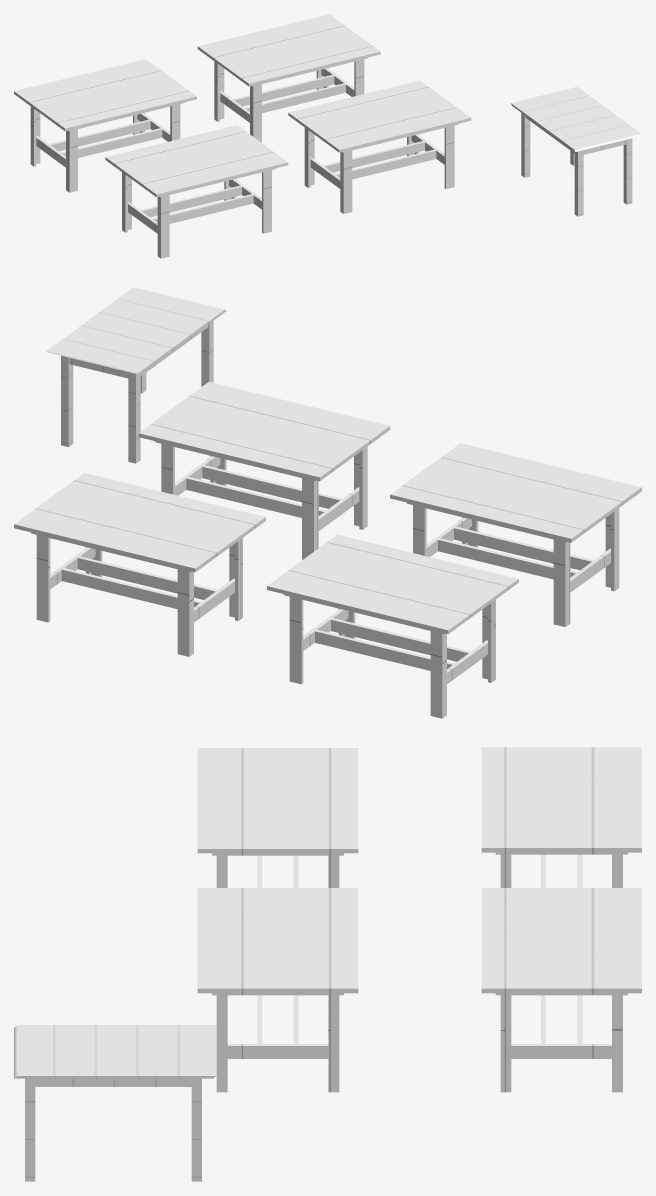
File: tables.glb
3 renders of one model, top to bottom at view 1: azimuth 30°, elevation 25°; view 2: azimuth 150°, elevation 25°; view 3: azimuth 270°, elevation 25°, orthographic. The views are drawn at different scales.
Visible parts, largest first — view 1: Object_2.012; view 2: Object_2.012; view 3: Object_2.012.
Part boxes in pixels (x1,y1,x2,y2): Object_2.012: (14, 14, 641, 258); Object_2.012: (14, 287, 641, 718); Object_2.012: (14, 747, 641, 1181).
Bounding box in the file's own units: 6.04 × 0.96 × 4.89.
1 material, 1 textured.
